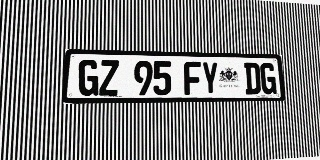5: (153, 61, 172, 95)
9: (134, 60, 153, 95)
D: (244, 62, 261, 94)
F: (184, 61, 202, 95)
G: (78, 59, 99, 96), (260, 63, 277, 94)
Y: (201, 62, 219, 95)
Z: (99, 60, 119, 96)
